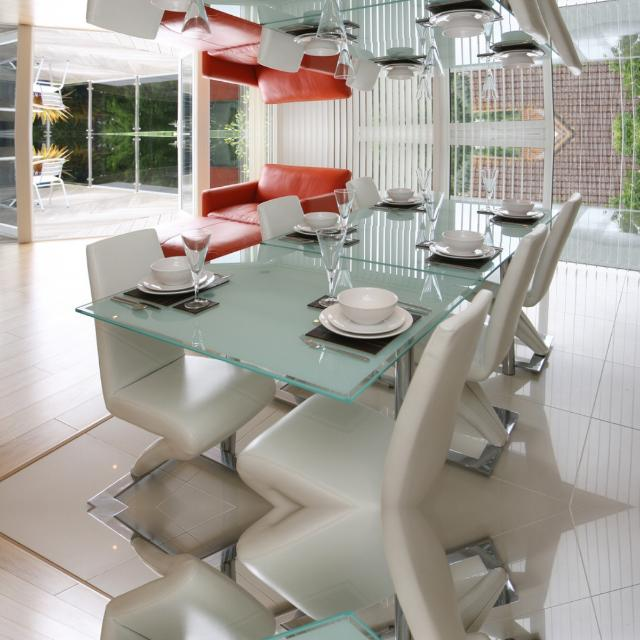obstacle: (149, 192, 629, 468), (84, 198, 258, 462), (149, 545, 629, 640), (149, 0, 629, 73), (420, 294, 508, 494), (84, 549, 258, 640), (84, 0, 258, 68), (420, 518, 507, 640)
